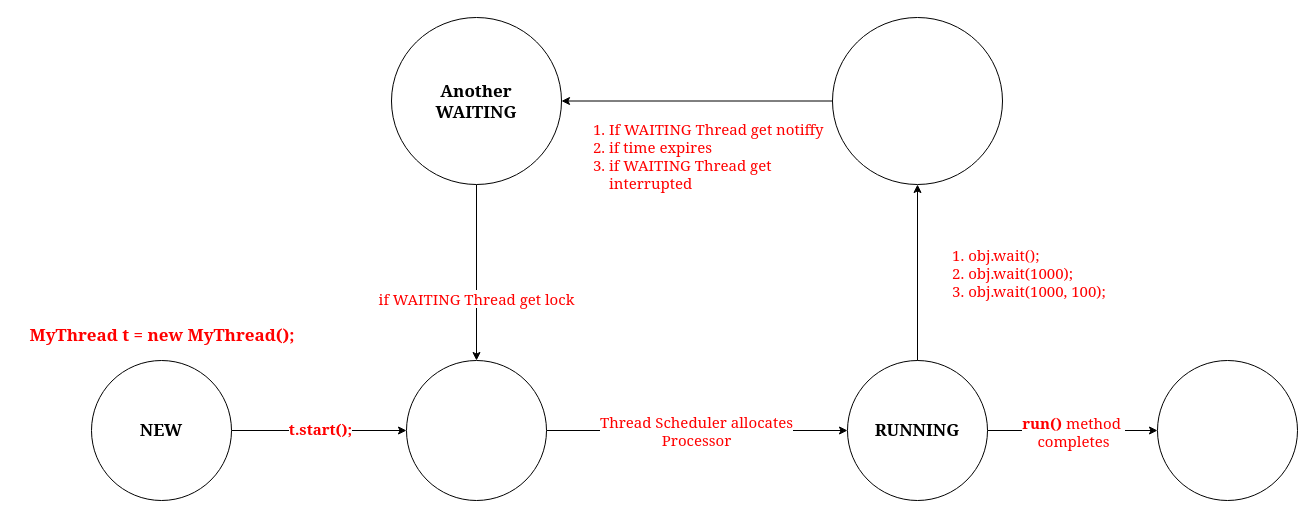
Image size: 1315x518. Some labels were removed from this diagram. Here are the shapes that lost their labels. From the top down, the box of each, then its label:
(832, 16, 1002, 184): WAITING
(406, 360, 546, 500): RUNNABLE
(1156, 360, 1298, 500): TERMINATED
